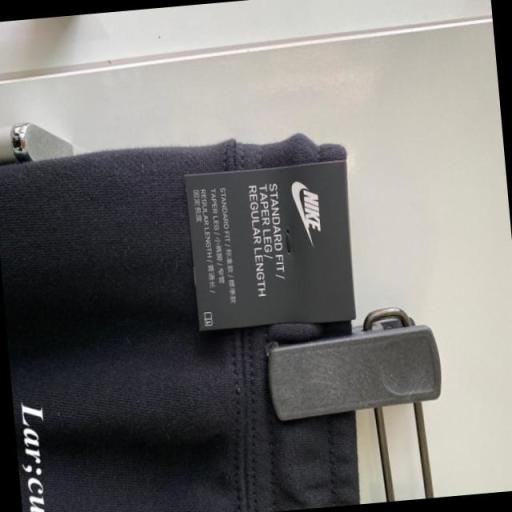Nike: (290, 180, 313, 250), (303, 190, 321, 232)
